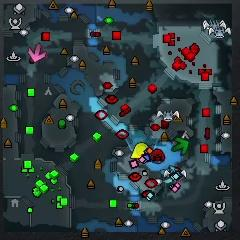p4: (131, 144, 150, 159)
x1: (28, 44, 47, 61)
x3: (163, 165, 180, 184)
x4: (173, 137, 189, 155)
